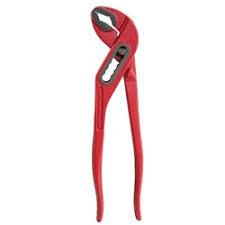pliers: (89, 4, 143, 222)
